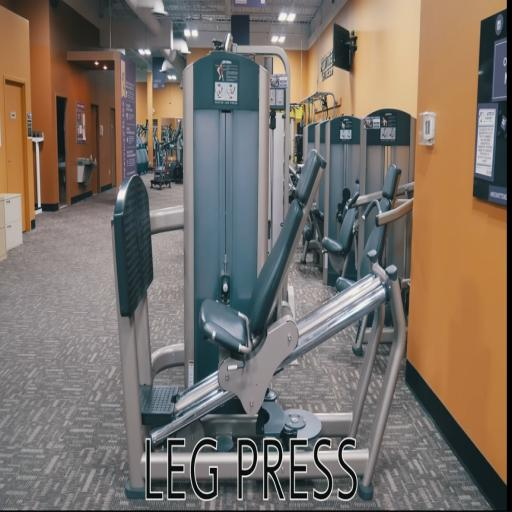Leg Press: (124, 200, 402, 480)
